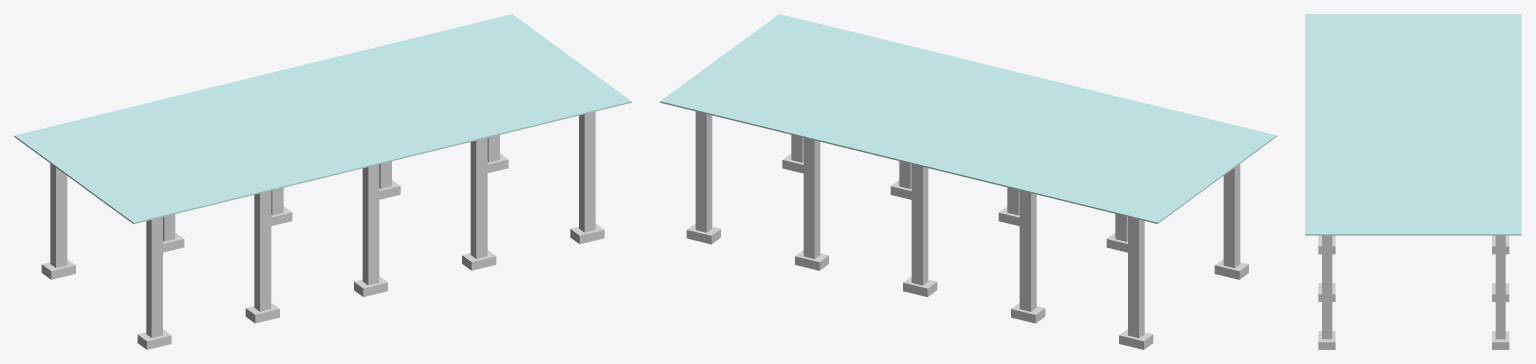
3 renders of one model, left to right at view 1: azimuth 30°, elevation 25°; view 2: azimuth 150°, elevation 25°; view 3: azimuth 270°, elevation 25°, orthographic. The views are drawn at different scales.
Visible parts, largest first — view 1: Rectangle042, Rectangle009, Rectangle006, Rectangle012, Rectangle015, Rectangle003, Rectangle018; view 2: Rectangle042, Rectangle024, Rectangle030, Rectangle021, Rectangle027, Rectangle018, Rectangle003; view 3: Rectangle042, Rectangle015, Rectangle030, Rectangle028, Rectangle013.
Part boxes in pixels (left/top/right/bottom): Rectangle042: left=14, top=14, right=631, bottom=224; Rectangle009: left=362, top=164, right=379, bottom=285; Rectangle006: left=254, top=191, right=271, bottom=311; Rectangle012: left=470, top=138, right=487, bottom=258; Rectangle015: left=579, top=111, right=595, bottom=232; Rectangle003: left=146, top=217, right=162, bottom=337; Rectangle018: left=50, top=163, right=67, bottom=267; Rectangle042: left=660, top=14, right=1276, bottom=223; Rectangle024: left=911, top=164, right=928, bottom=285; Rectangle030: left=695, top=111, right=712, bottom=232; Rectangle021: left=1019, top=190, right=1036, bottom=311; Rectangle027: left=803, top=138, right=820, bottom=258; Rectangle018: left=1128, top=217, right=1144, bottom=337; Rectangle003: left=1223, top=164, right=1240, bottom=268; Rectangle042: left=1305, top=14, right=1521, bottom=235; Rectangle015: left=1322, top=235, right=1332, bottom=339; Rectangle030: left=1495, top=235, right=1505, bottom=339; Rectangle028: left=1492, top=331, right=1509, bottom=349; Rectangle013: left=1318, top=331, right=1335, bottom=349.
Bounding box in the file's own units: 12080 × 3187 × 5014.
